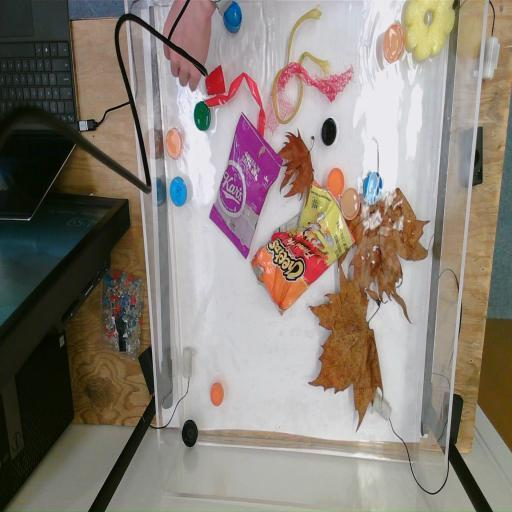Bottle Cap: (382, 22, 405, 64), (340, 186, 360, 222), (222, 0, 242, 34), (366, 168, 382, 208), (320, 116, 339, 148), (166, 128, 183, 160), (182, 417, 199, 449), (170, 176, 188, 206), (326, 167, 344, 197), (194, 101, 212, 131), (210, 382, 224, 406)
Cone Cap: (206, 68, 226, 95)
Leaf: (306, 265, 386, 430), (346, 183, 428, 327), (276, 128, 314, 200)
Netting: (280, 56, 354, 106), (264, 92, 294, 132)
Plastic Bag: (250, 180, 355, 313), (208, 112, 282, 259)
Plastic Strand: (273, 9, 331, 121), (204, 74, 268, 155)
Sponge: (402, 1, 457, 56)
